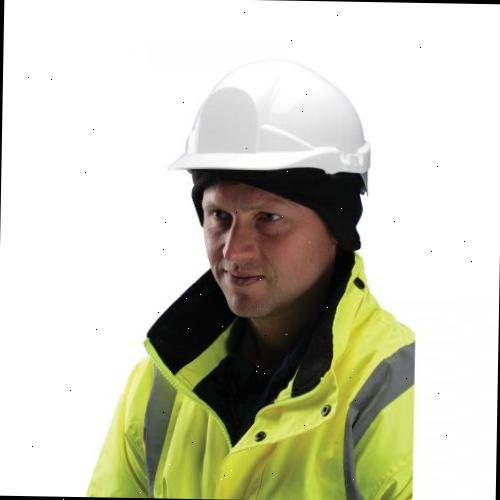helmet: (164, 58, 376, 192)
wear: (90, 303, 417, 500)
